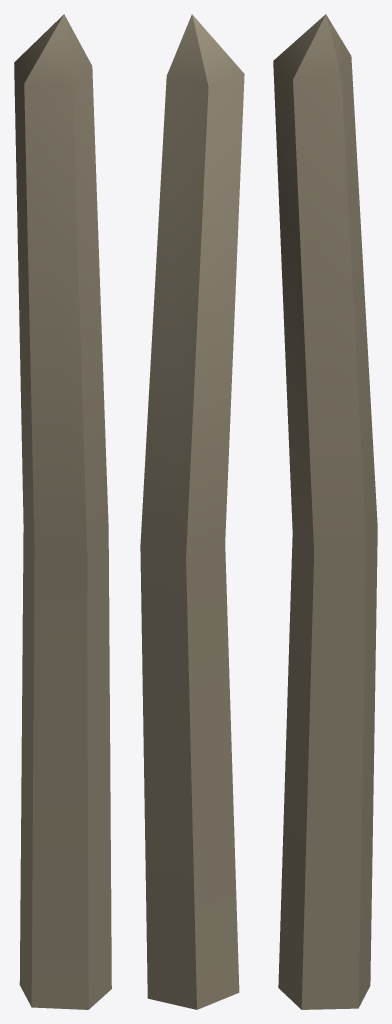
Rendered from HurdleStake.fbx.
3 views of the same model, side by side, from view 1: azimuth 30°, elevation 25°; view 2: azimuth 150°, elevation 25°; view 3: azimuth 330°, elevation 25° (orthographic).
Visible parts, largest first — view 1: HurdleStake; view 2: HurdleStake; view 3: HurdleStake.
Boxes of the visible parts, <box> form: HurdleStake: <box>14,14,111,1009</box>; HurdleStake: <box>140,14,244,1009</box>; HurdleStake: <box>273,14,377,1009</box>.
Size of the model in its own units: 0.1056 by 1.11 by 0.098.
